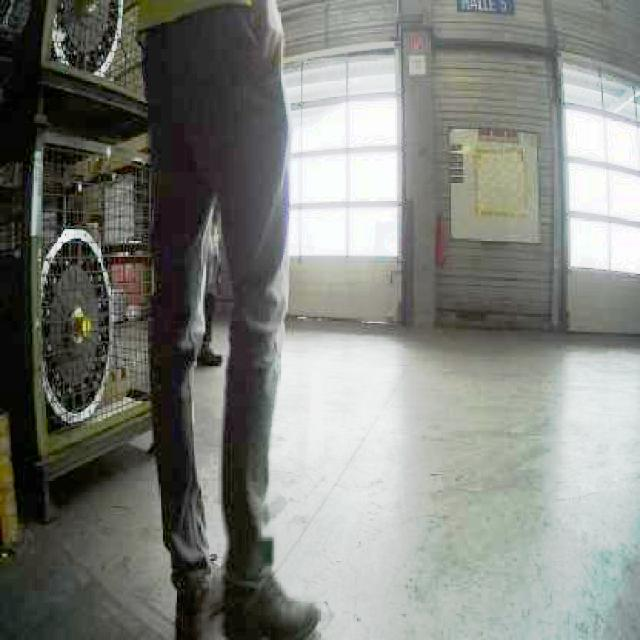ground: (0, 311, 638, 638)
pallet: (0, 131, 222, 523), (0, 402, 22, 565)
